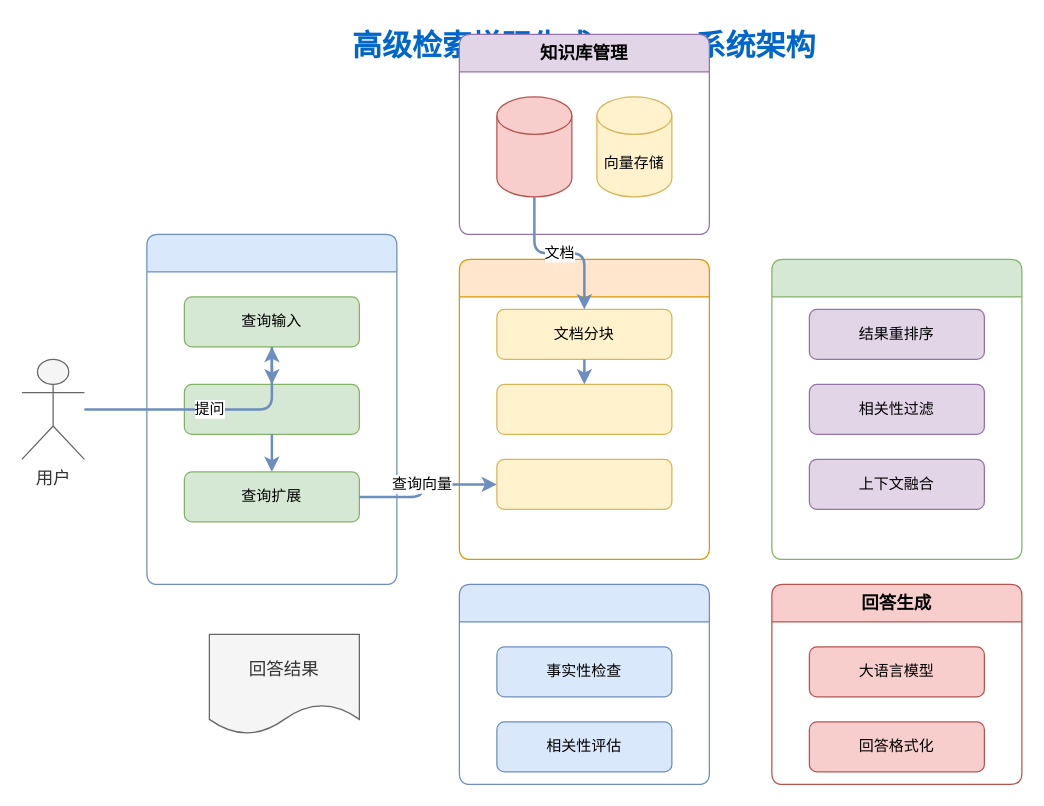
This 1044x806 diagram has some shape labels left out. Each missing label, with the box of its shape:
上下文增强: (771, 258, 1022, 559)
向量嵌入: (496, 383, 672, 434)
向量检索: (496, 458, 672, 509)
文档存储: (496, 96, 572, 197)
查询分析: (183, 383, 359, 434)
查询处理: (146, 233, 397, 584)
检索引擎: (458, 258, 709, 559)
质量评估: (458, 583, 709, 784)
